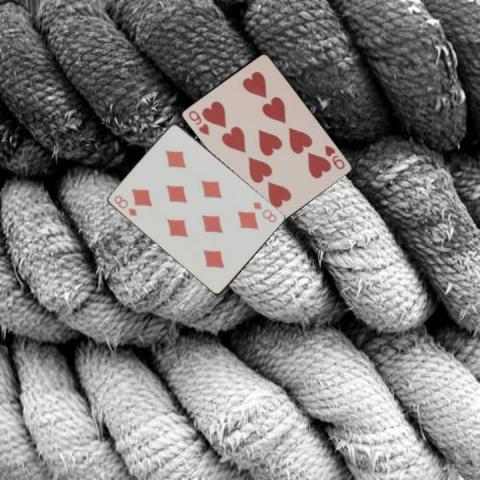8d: (250, 199, 279, 224), (111, 192, 139, 217)
9h: (185, 107, 210, 137), (321, 142, 346, 171)
